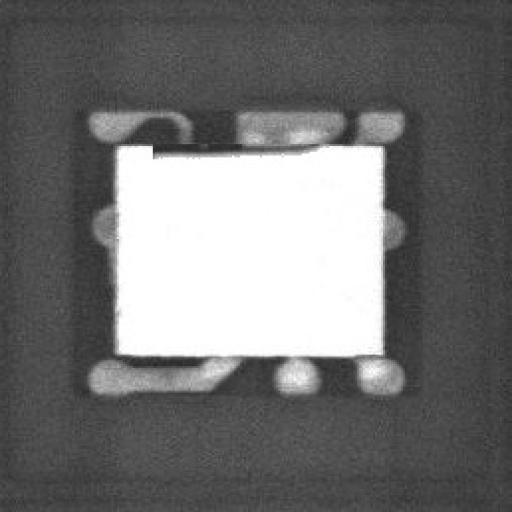DIE_BROKEN: (147, 138, 325, 162)
